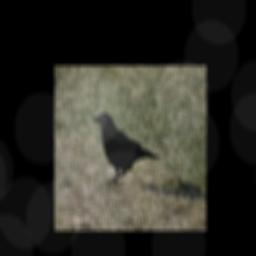Crow: (90, 110, 157, 183)
